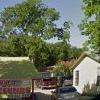Tree: (5, 2, 78, 55)
